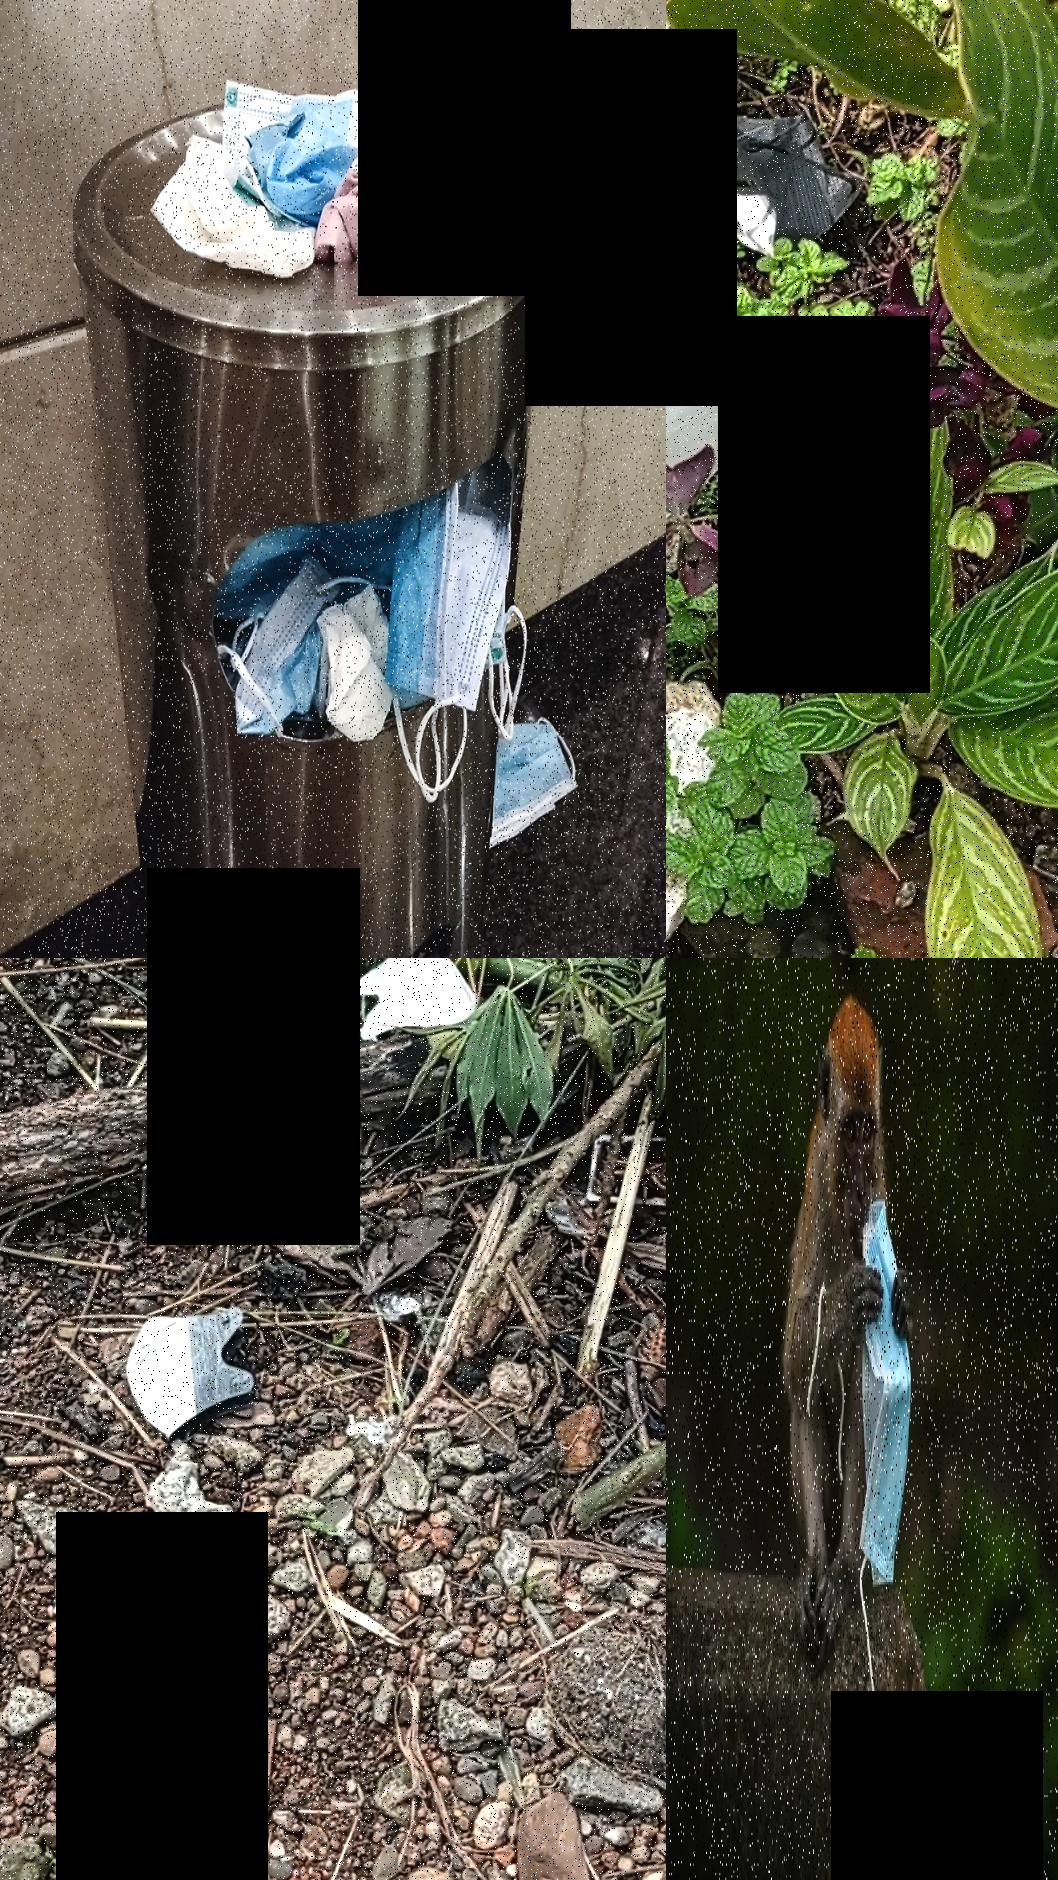face_mask: (218, 39, 475, 206), (394, 482, 512, 805), (666, 80, 874, 262), (666, 293, 763, 542), (222, 558, 345, 743), (123, 1305, 260, 1447), (864, 1197, 912, 1590), (321, 958, 479, 1049), (318, 142, 422, 266), (490, 718, 579, 855)
